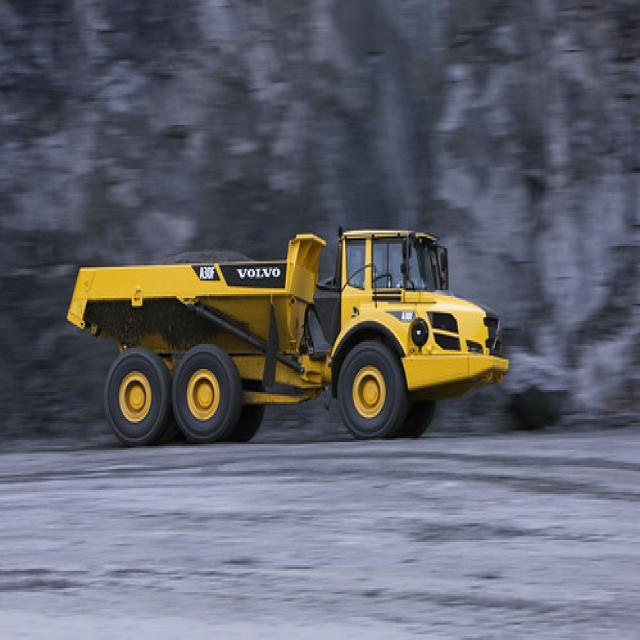dump_truck: (71, 215, 509, 450)
